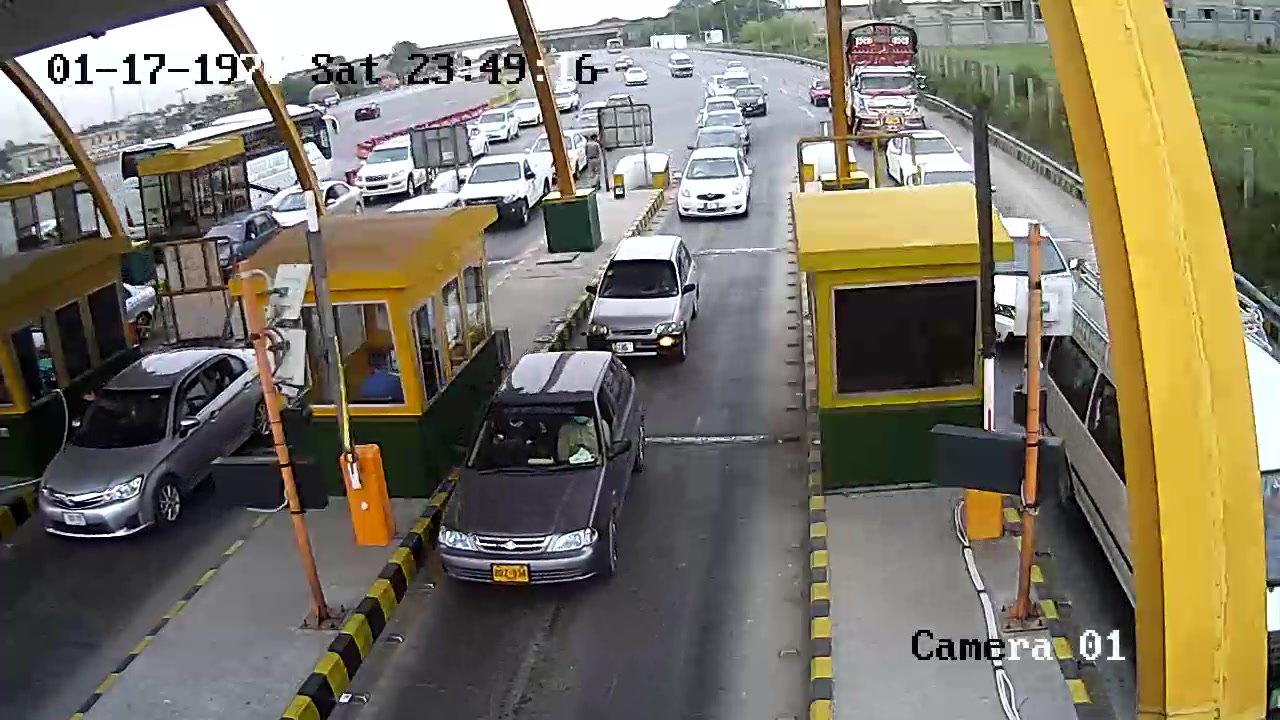F1: (444, 350, 639, 596), (589, 230, 705, 361)
